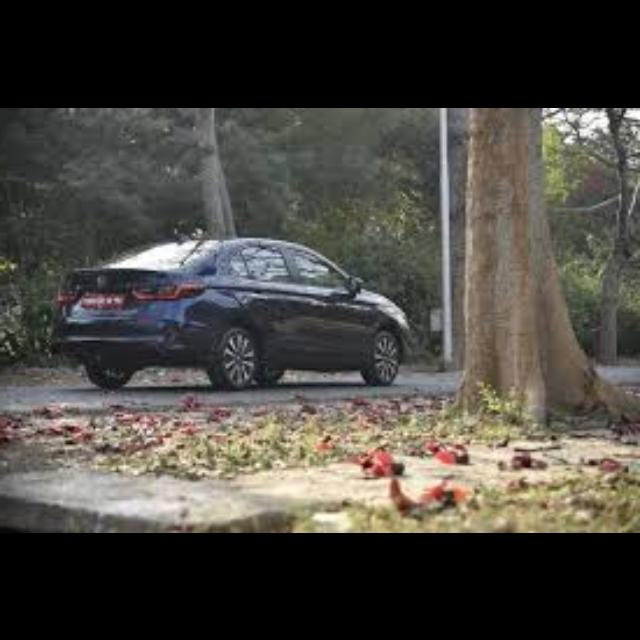vehicles: (51, 226, 416, 396)
